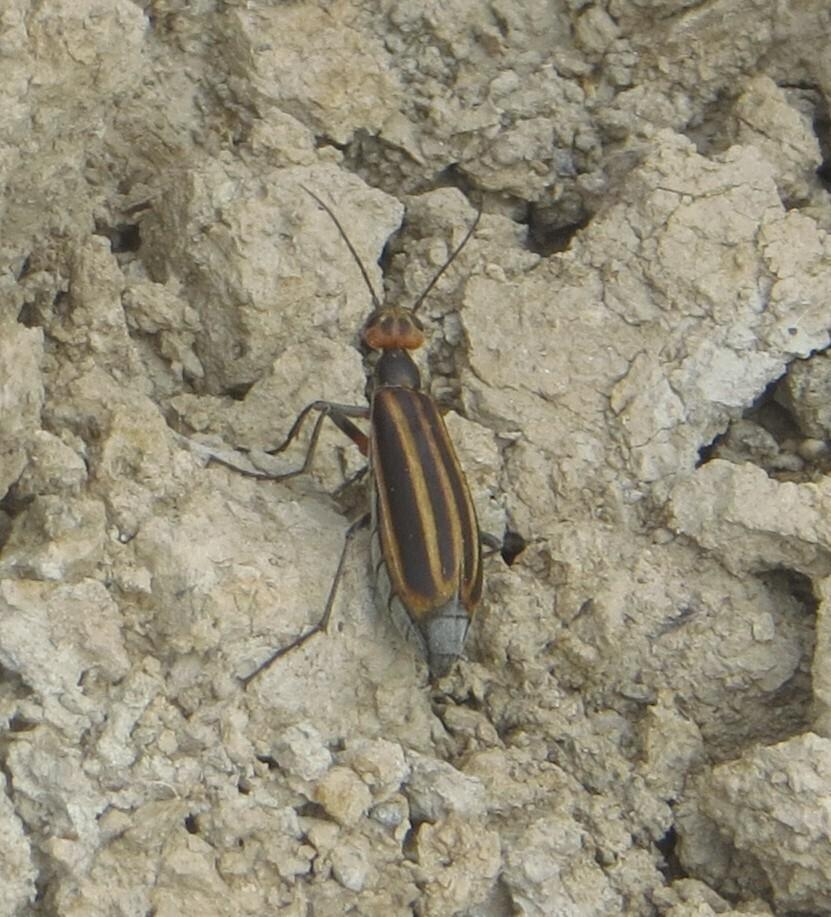blister_beetle: (175, 125, 672, 733)
